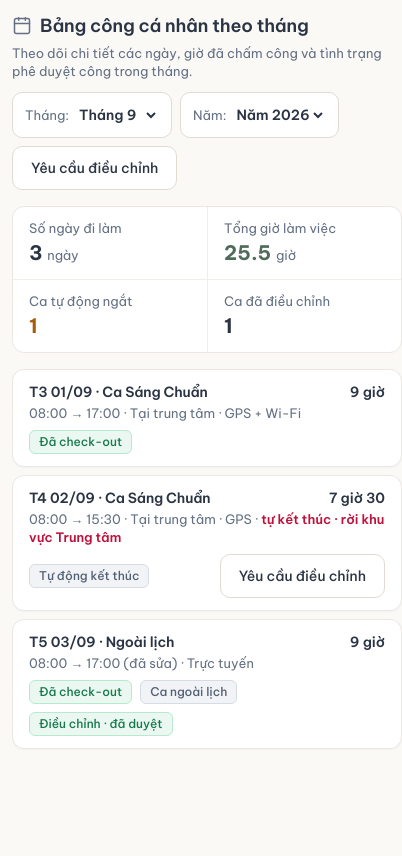
Test: MyMonthlyTimesheetPanel mobile cards (design 14c) › fetches other months through the override instead of the server action
Select "Tháng 8" in the dropdown named "Chọn tháng" at [117, 115], box left=75, top=93, right=159, bottom=137
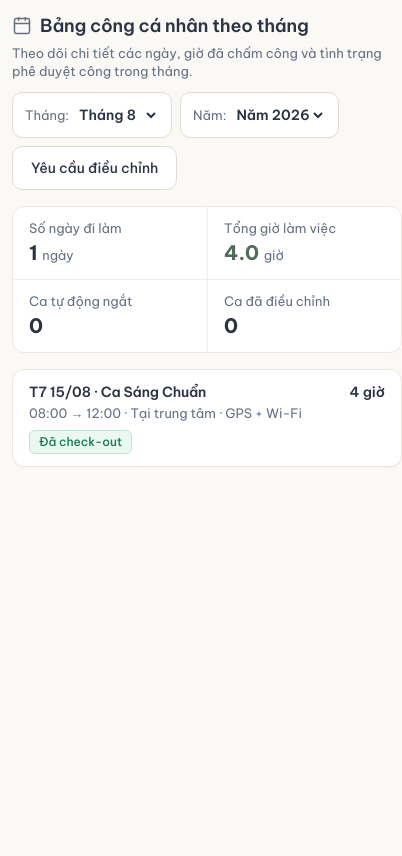
Check: the heading "T7 15/08 · Ca Sáng Chuẩn" is shown, box left=29, top=382, right=206, bottom=402
